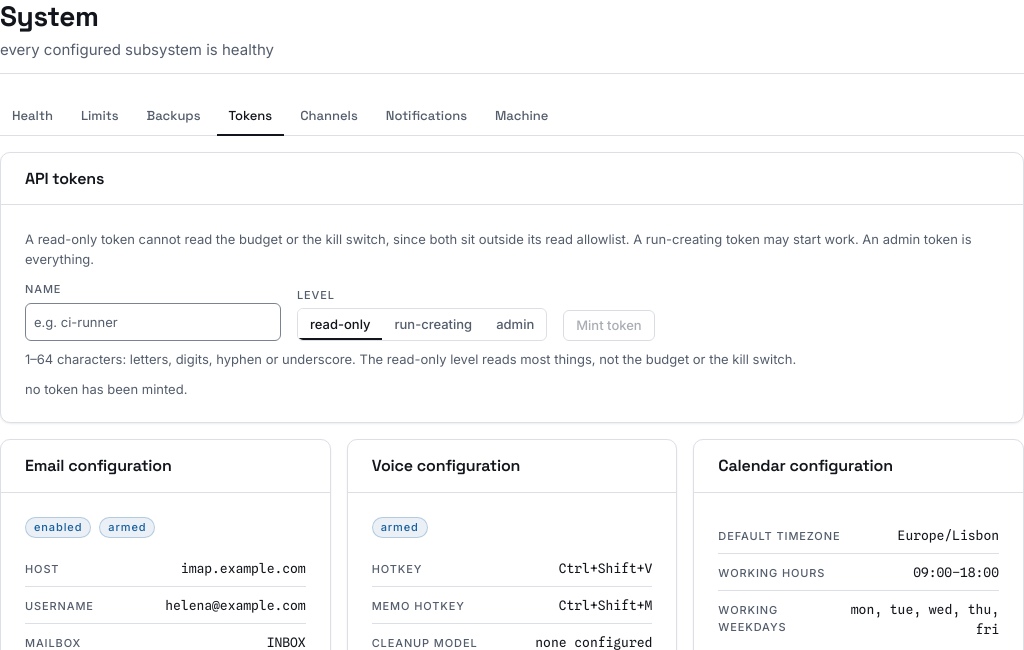
System - tokens › shows a minted token's secret once and not in the listing
The width and height of the screenshot is (1024, 650).
Step 1. Type "ci-reader" into the field labelled "Name" → (153,322), box [25,302,281,341]
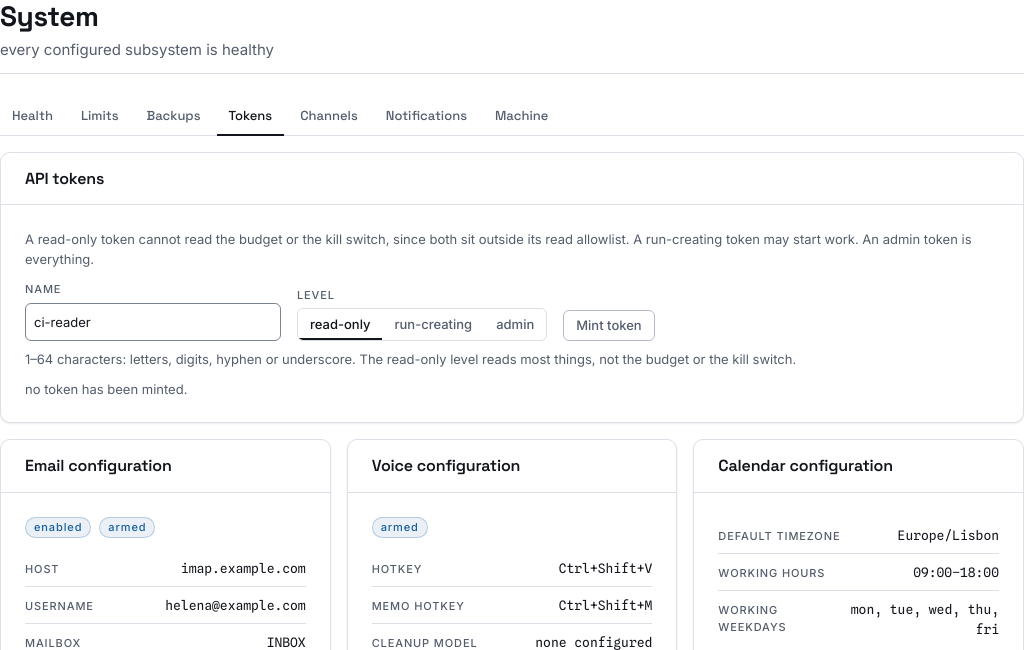
Step 2. Click the button "Mint token" → (609,325), box [563,310,655,341]
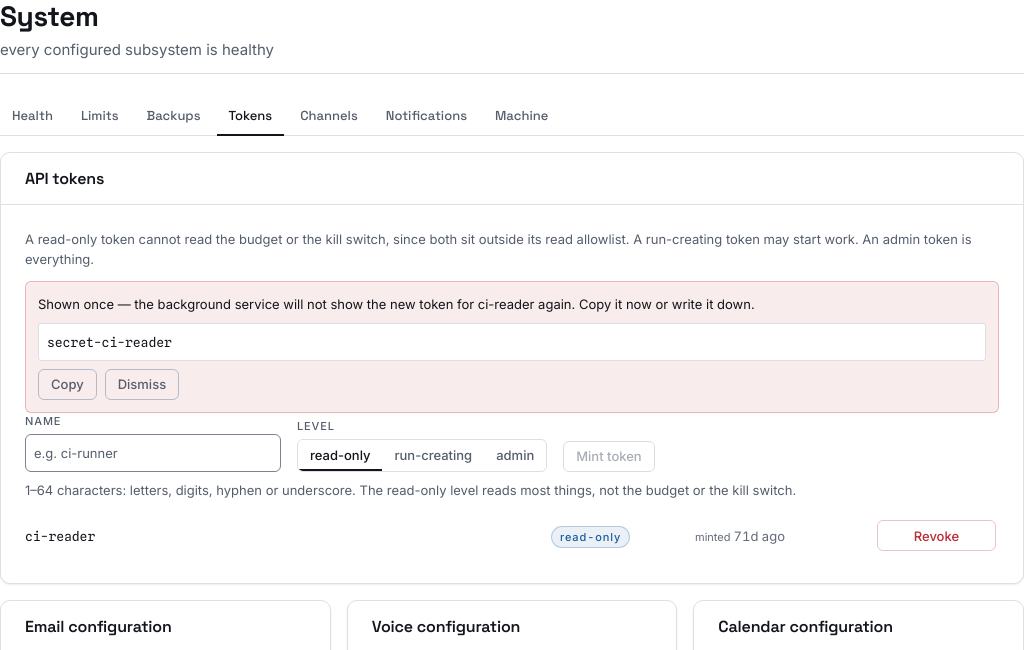
Check: the text "ci-reader" does not show "secret-ci-reader"
Check: the field named "the new token for ci-reader" holds "secret-ci-reader", box [38,323,986,361]
Step 3. Click the button "Dismiss" → (142,384), box [105,369,179,400]
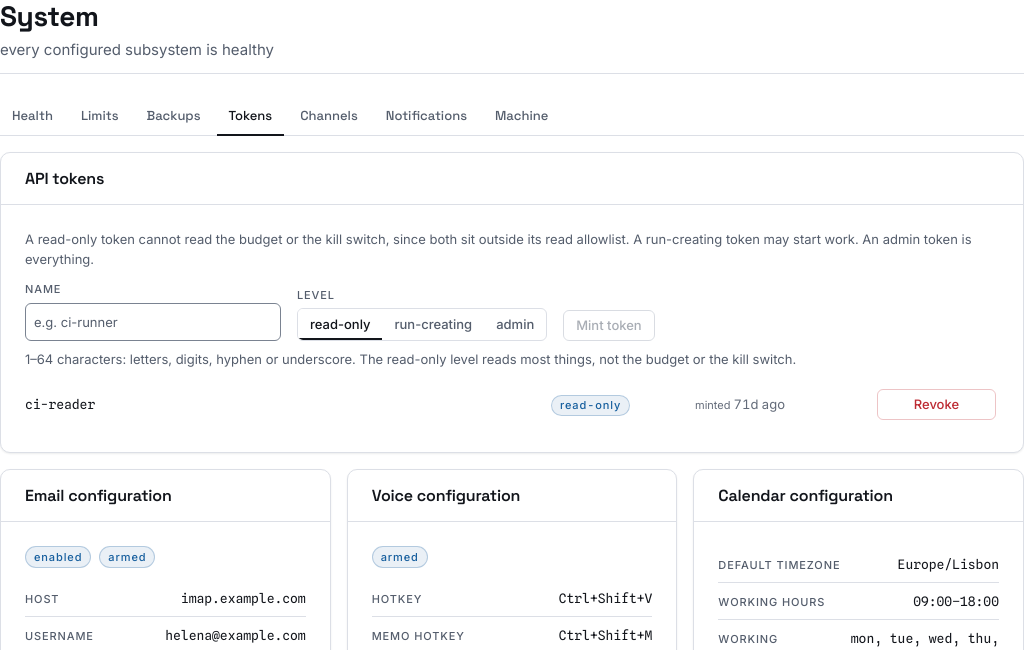
Check: the text labelled "the new token for ci-reader" is gone
